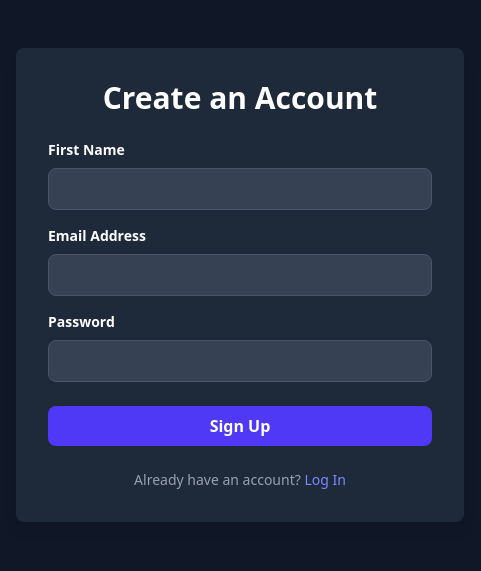
SignupPage › should display an error message if signup fails
The image size is (481, 571).
Add these lines to fill the form before submitting
In the field labelled "First Name": (240, 189) [48,168,432,210], type "Test"
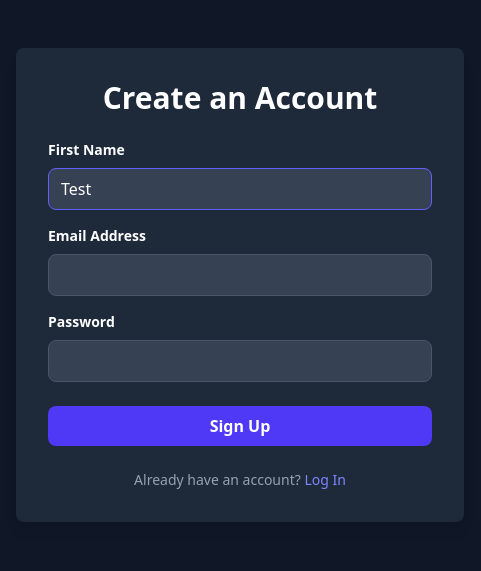
In the field labelled "Email Address": (240, 275) [48,254,432,296], type "test@example.com"
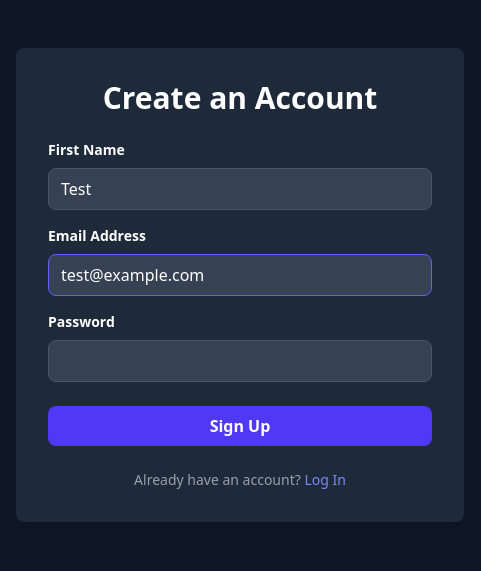
In the password field labelled "Password": (240, 361) [48,340,432,382], type "Password123!"
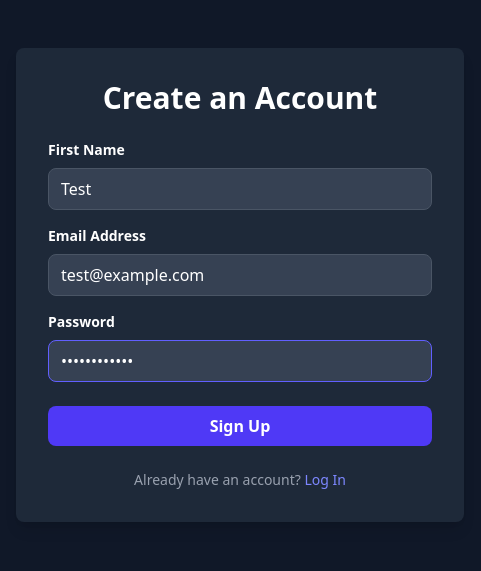
Click the button "Sign Up": click(240, 426) [48,406,432,446]
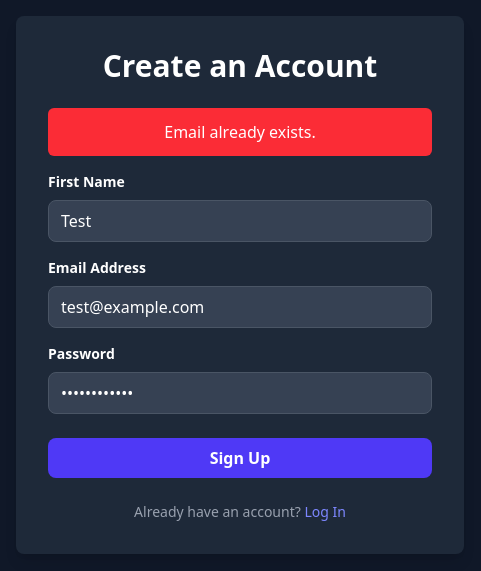
Now the text "Email already exists." is shown, box [48,108,432,156]
